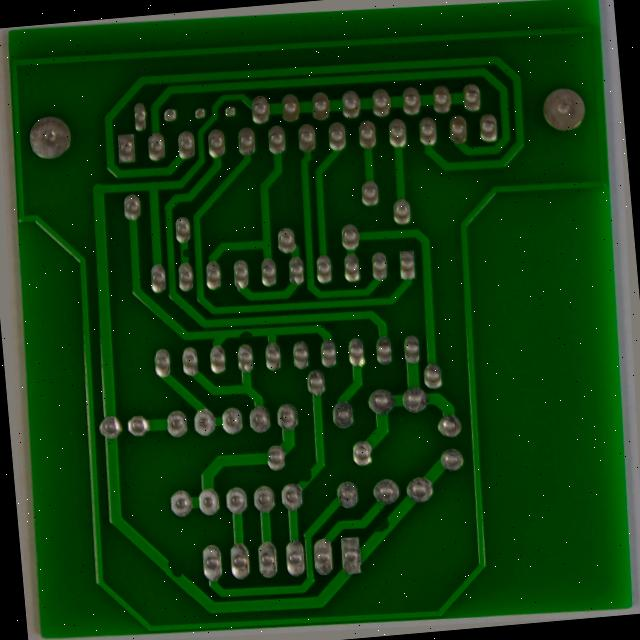mouse_bite: (375, 515, 407, 544), (162, 569, 190, 597), (297, 471, 321, 492), (228, 328, 254, 346), (167, 247, 185, 263)
